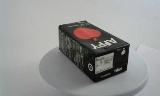appy: (53, 20, 121, 82)
